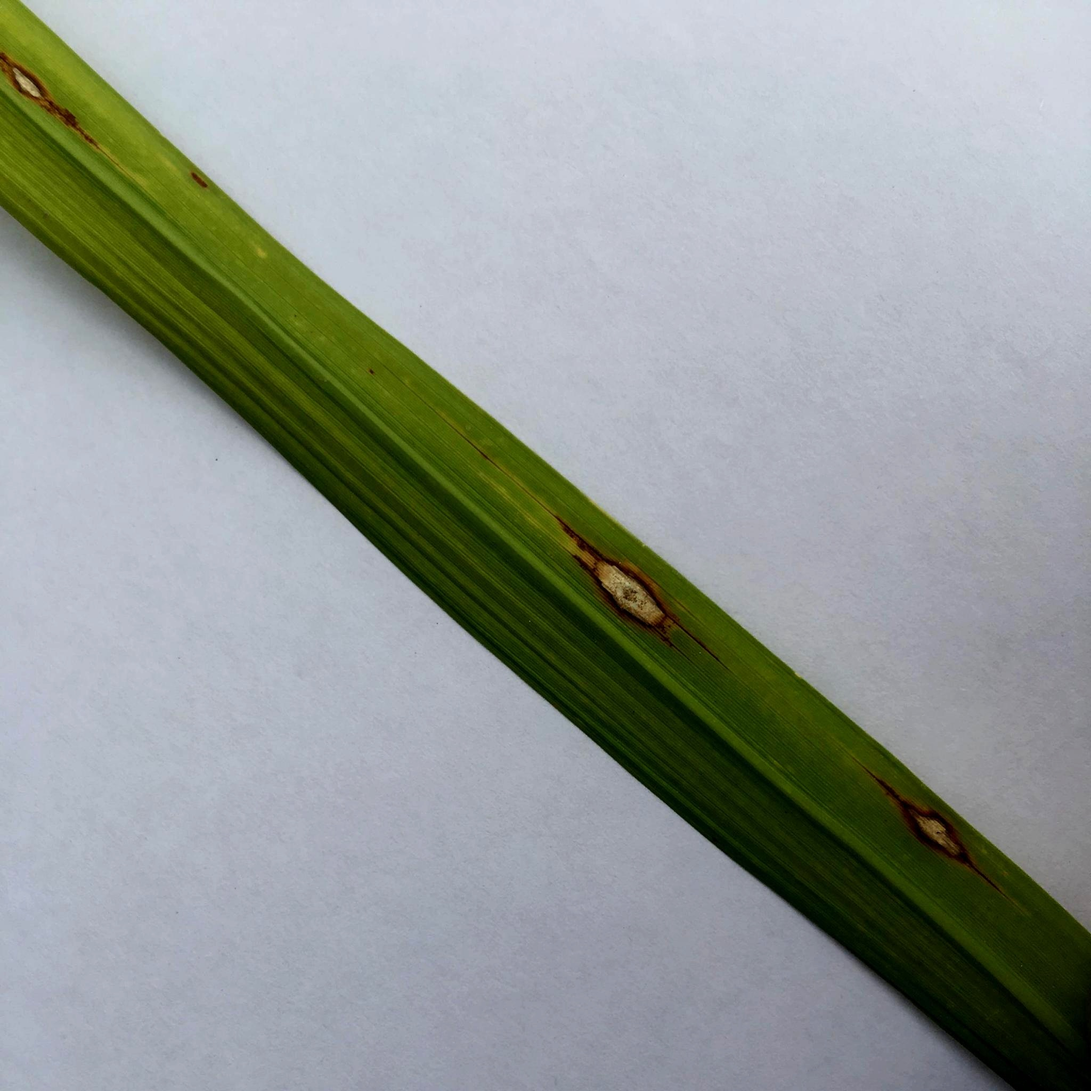Brown_Spot: (548, 440, 728, 665), (837, 728, 1022, 911), (0, 21, 107, 156)
